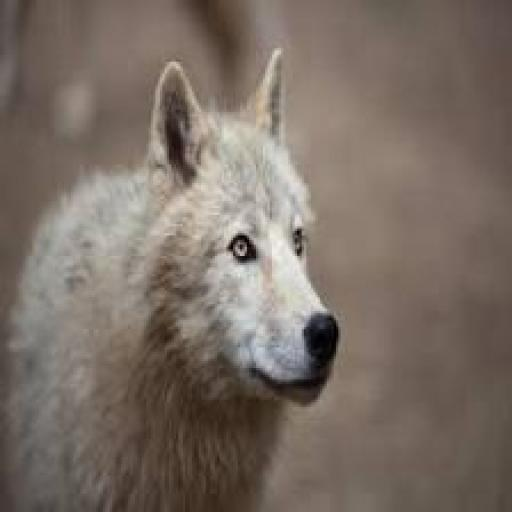wolf: (0, 41, 343, 512)
